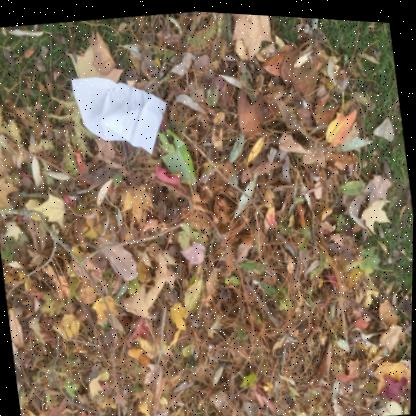Paper: (71, 75, 167, 152)
